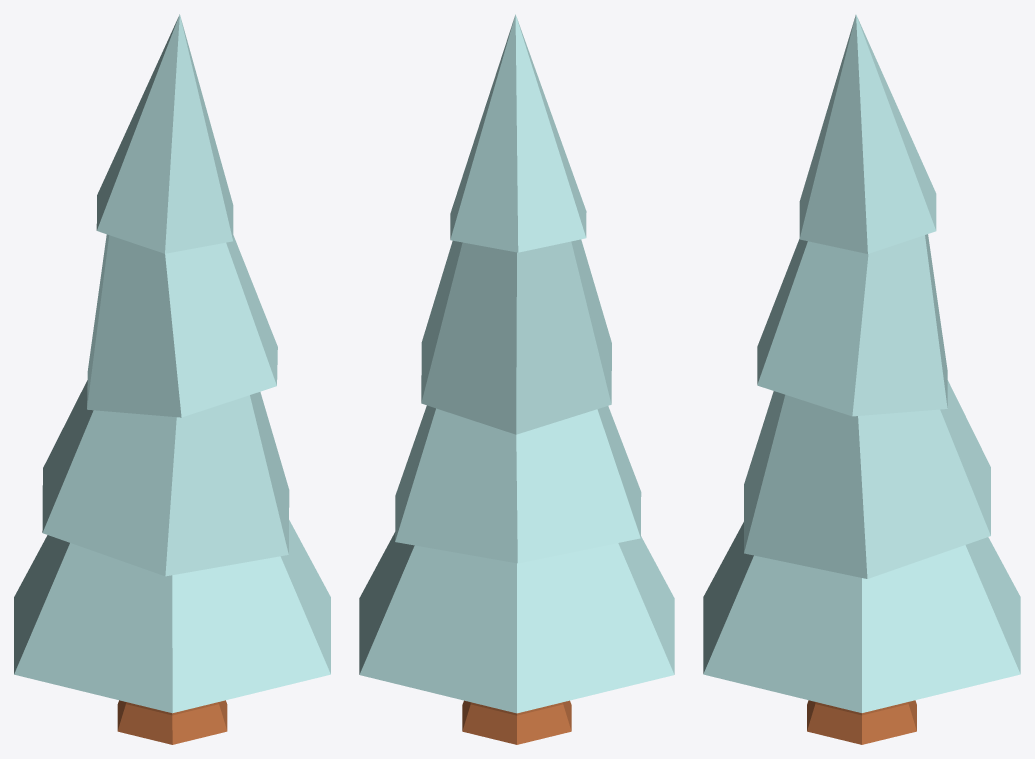
File: treePineSnowed.fbx
The picture shows the model from 3 angles, left to right: view 1: azimuth 30°, elevation 25°; view 2: azimuth 150°, elevation 25°; view 3: azimuth 270°, elevation 25°; orthographic projection.
Parts seen in each view (by area): view 1: treePineSnowed; view 2: treePineSnowed; view 3: treePineSnowed.
Part boxes in pixels (x1,y1,x2,y2): treePineSnowed: (14,14,330,744); treePineSnowed: (359,14,674,744); treePineSnowed: (703,14,1020,744).
Bounding box in the file's own units: 7.52 × 15.98 × 6.51.
